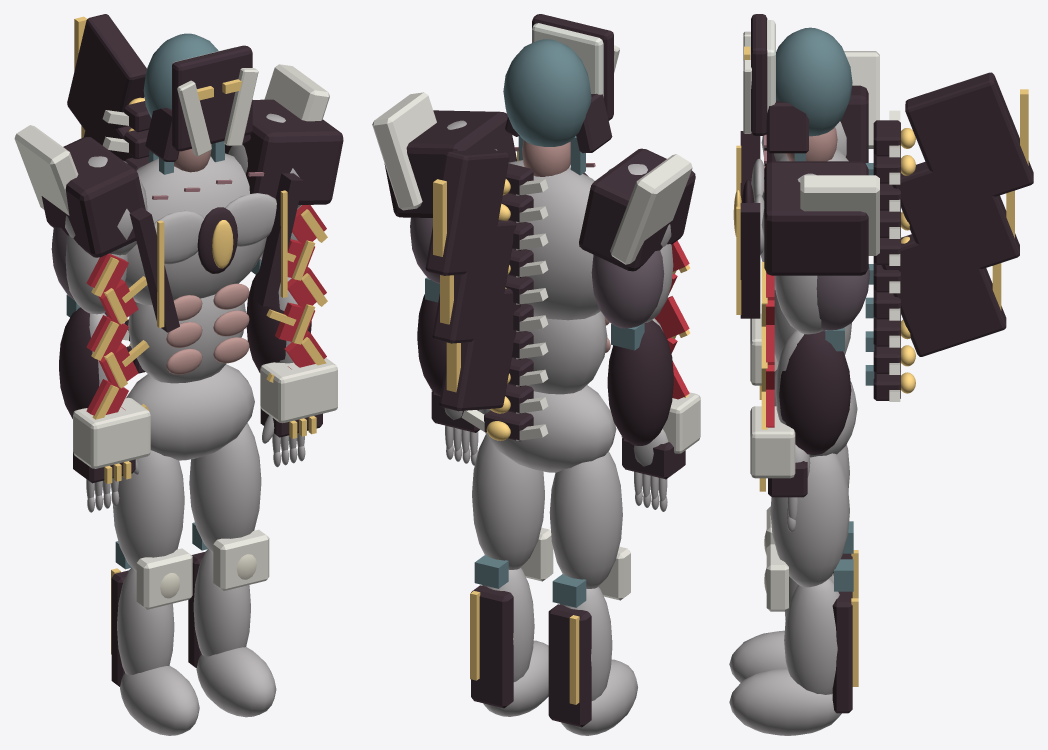
The model's file is successor.glb.
3 renders of one model, left to right at view 1: azimuth 30°, elevation 25°; view 2: azimuth 150°, elevation 25°; view 3: azimuth 270°, elevation 25°, orthographic.
Visible parts, largest first — view 1: successor_skin.034, successor_skin.032, successor_black.013, successor_black.017, successor_skin, successor_black.012, successor_skin.016, successor_black.021, successor_skin.033, successor_skin.002, successor_skin.018, successor_ivory.024 (+45 smaller); view 2: successor_skin.016, successor_skin.034, lab_frame.004, successor_skin, successor_black.012, successor_skin.032, successor_black.018, successor_black.010, successor_black.017, successor_black.013, successor_black.011, successor_skin.033 (+35 smaller); view 3: successor_black.012, successor_black.010, successor_black.013, successor_black.011, successor_skin, successor_black.014, lab_frame.004, successor_skin.002, successor_skin.001, successor_ivory.020, successor_ivory.021, successor_plate (+30 smaller).
Part boxes in pixels (left/top/right/bottom): successor_skin.034: left=125, top=153, right=266, bottom=305; successor_skin.032: left=126, top=364, right=254, bottom=460; successor_black.013: left=225, top=99, right=343, bottom=204; successor_black.017: left=41, top=137, right=145, bottom=257; successor_skin: left=189, top=423, right=261, bottom=553; successor_black.012: left=67, top=14, right=146, bottom=150; successor_skin.016: left=113, top=450, right=184, bottom=571; successor_black.021: left=172, top=45, right=252, bottom=151; successor_skin.033: left=128, top=294, right=245, bottom=383; successor_skin.002: left=196, top=647, right=276, bottom=717; successor_skin.018: left=120, top=665, right=199, bottom=735; successor_ivory.024: left=73, top=397, right=150, bottom=468; successor_skin.016: left=549, top=451, right=622, bottom=588; successor_skin.034: left=508, top=160, right=600, bottom=320; lab_frame.004: left=503, top=39, right=591, bottom=146; successor_skin: left=472, top=434, right=544, bottom=569; successor_black.012: left=425, top=149, right=509, bottom=275; successor_skin.032: left=479, top=385, right=616, bottom=472; successor_black.018: left=607, top=320, right=673, bottom=445; successor_black.010: left=439, top=288, right=520, bottom=411; successor_black.017: left=579, top=148, right=695, bottom=271; successor_black.013: left=384, top=110, right=517, bottom=217; successor_black.011: left=432, top=220, right=516, bottom=343; successor_skin.033: left=526, top=311, right=607, bottom=394; successor_black.012: left=905, top=72, right=1033, bottom=208; successor_black.010: left=881, top=230, right=1006, bottom=356; successor_black.013: left=764, top=161, right=868, bottom=275; successor_black.011: left=892, top=158, right=1019, bottom=282; successor_skin: left=770, top=453, right=849, bottom=587; successor_black.014: left=779, top=331, right=851, bottom=454; lab_frame.004: left=776, top=27, right=852, bottom=136; successor_skin.002: left=729, top=668, right=841, bottom=735; successor_skin.001: left=784, top=578, right=839, bottom=694; successor_ivory.020: left=800, top=175, right=879, bottom=255; successor_ivory.021: left=750, top=406, right=795, bottom=478; successor_plate: left=816, top=264, right=869, bottom=331.
Bounding box in the file's own units: 1.65 × 3.79 × 1.53.
